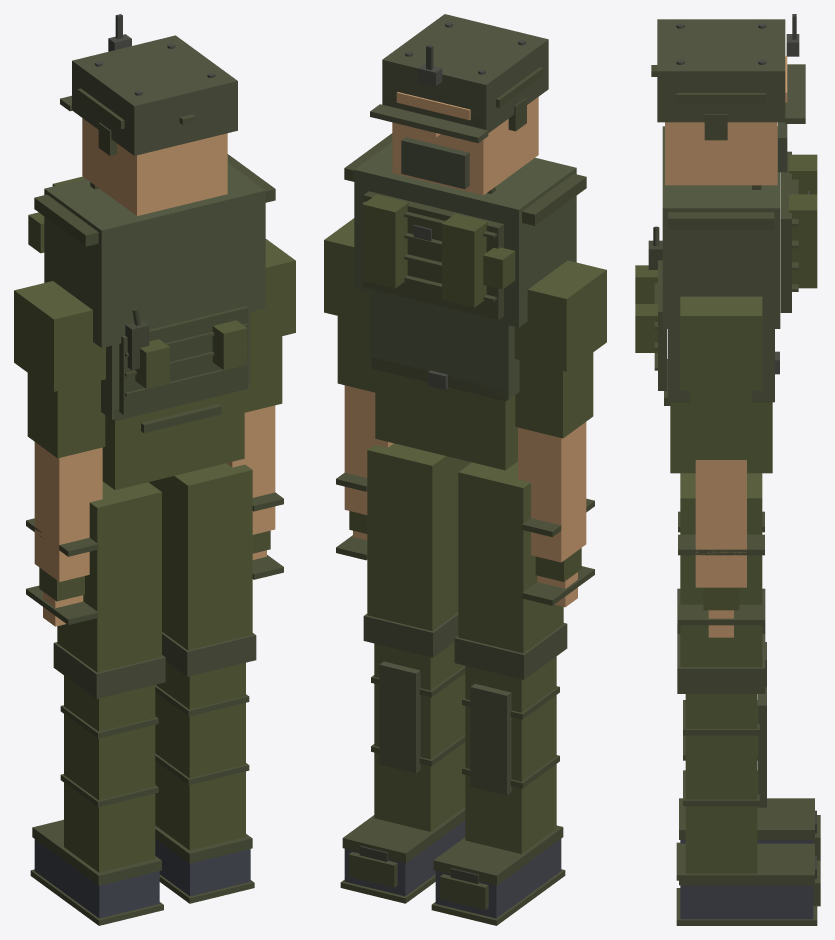
File: body_standard.glb
3 renders of one model, left to right at view 1: azimuth 30°, elevation 25°; view 2: azimuth 150°, elevation 25°; view 3: azimuth 270°, elevation 25°, orthographic. The views are drawn at different scales.
Parts seen in each view (by area): view 1: Mesh_Chest, Thigh_R, Shin_L, Shin_R, Thigh_L, Mesh_Helmet, Mesh_Pelvis, Mesh_Head, ForearmBlock_L, ShoulderBlock_L, Detail_BackPlate, UpperArmBlock_L (+26 smaller); view 2: Thigh_R, Thigh_L, Mesh_Chest, Mesh_Helmet, Shin_L, Shin_R, Mesh_Spine, Mesh_Pelvis, ShoulderBlock_L, ForearmBlock_L, UpperArmBlock_L, Mesh_Head (+29 smaller); view 3: Mesh_Chest, Shin_R, Mesh_Helmet, ShoulderBlock_R, Thigh_R, Mesh_Head, ForearmBlock_R, UpperArmBlock_R, Foot_R, Detail_AnkleCollar_R, Mesh_Pelvis, Detail_KneePad_R (+22 smaller).
Part boxes in pixels (left/top/right/bottom): Mesh_Chest: left=44, top=163, right=265, bottom=347; Thigh_R: left=149, top=463, right=252, bottom=650; Shin_L: left=64, top=675, right=155, bottom=872; Shin_R: left=155, top=661, right=245, bottom=850; Thigh_L: left=57, top=481, right=161, bottom=672; Mesh_Helmet: left=72, top=35, right=237, bottom=155; Mesh_Pelvis: left=102, top=389, right=244, bottom=490; Mesh_Head: left=82, top=118, right=227, bottom=215; ForearmBlock_L: left=34, top=442, right=102, bottom=581; ShoulderBlock_L: left=14, top=281, right=105, bottom=391; Detail_BackPlate: left=119, top=306, right=247, bottom=414; UpperArmBlock_L: left=27, top=284, right=105, bottom=458; Thigh_R: left=367, top=443, right=471, bottom=631; Thigh_L: left=458, top=461, right=563, bottom=653; Mesh_Chest: left=354, top=142, right=576, bottom=327; Mesh_Helmet: left=382, top=14, right=548, bottom=132; Shin_L: left=465, top=656, right=556, bottom=853; Shin_R: left=374, top=642, right=465, bottom=831; Mesh_Spine: left=370, top=291, right=519, bottom=399; Mesh_Pelvis: left=375, top=369, right=517, bottom=470; ShoulderBlock_L: left=514, top=260, right=606, bottom=371; ForearmBlock_L: left=518, top=422, right=586, bottom=562; UpperArmBlock_L: left=515, top=264, right=593, bottom=438; Mesh_Head: left=392, top=97, right=538, bottom=195; Mesh_Chest: left=662, top=126, right=780, bottom=328; Shin_R: left=685, top=694, right=757, bottom=873; Mesh_Helmet: left=657, top=19, right=785, bottom=122; ShoulderBlock_R: left=680, top=296, right=762, bottom=390; Thigh_R: left=680, top=473, right=762, bottom=667; Mesh_Head: left=665, top=122, right=777, bottom=185; ForearmBlock_R: left=695, top=460, right=746, bottom=587; UpperArmBlock_R: left=690, top=296, right=751, bottom=459; Foot_R: left=680, top=885, right=813, bottom=919; Detail_AnkleCollar_R: left=679, top=843, right=814, bottom=885; Mesh_Pelvis: left=670, top=402, right=772, bottom=473; Detail_KneePad_R: left=677, top=634, right=765, bottom=693.
Size of the model in its own units: 0.56 by 1.88 by 0.362.
